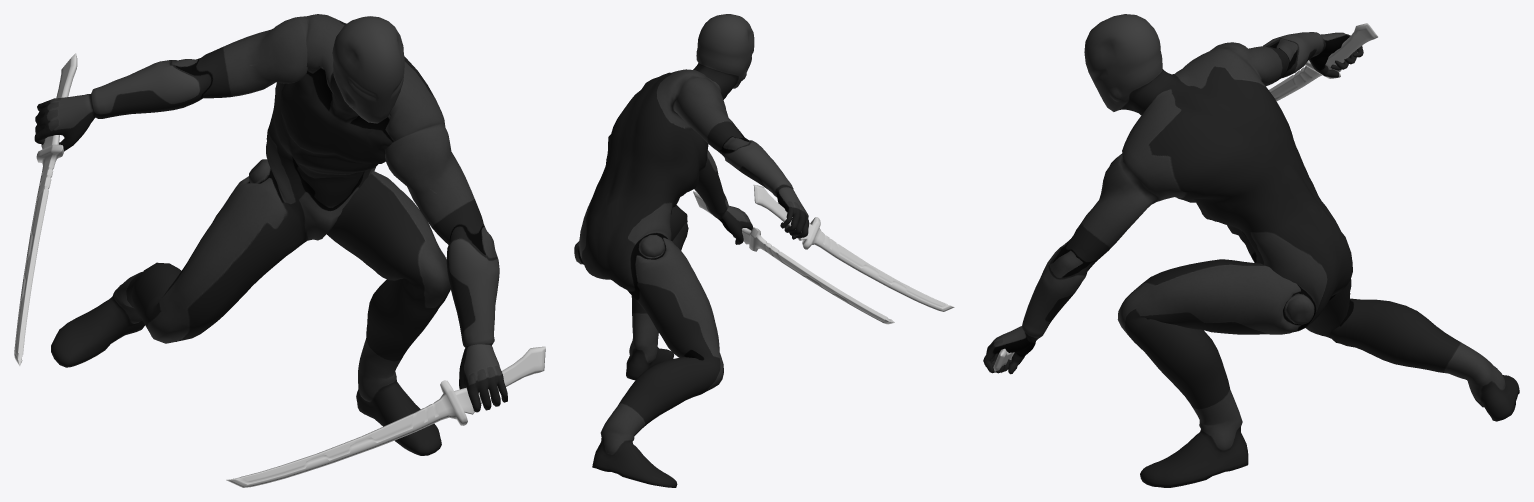
3 views of the same model, side by side, from view 1: azimuth 30°, elevation 25°; view 2: azimuth 150°, elevation 25°; view 3: azimuth 270°, elevation 25° (orthographic). The views are drawn at different scales.
Visible parts, largest first — view 1: Cyborg_Ninja_Killer, Sword_l, Sword_l001; view 2: Cyborg_Ninja_Killer, Sword_l001, Sword_l; view 3: Cyborg_Ninja_Killer, Sword_l001.
Boxes of the visible parts, x1,y1,x2,y2 form: Cyborg_Ninja_Killer: (34,14,507,455); Sword_l: (226,346,545,487); Sword_l001: (14,53,77,366); Cyborg_Ninja_Killer: (574,14,809,487); Sword_l001: (753,185,954,311); Sword_l: (693,191,894,324); Cyborg_Ninja_Killer: (983,14,1519,487); Sword_l001: (1269,23,1377,101).
Size of the model in its own units: 127 by 127 by 144.
